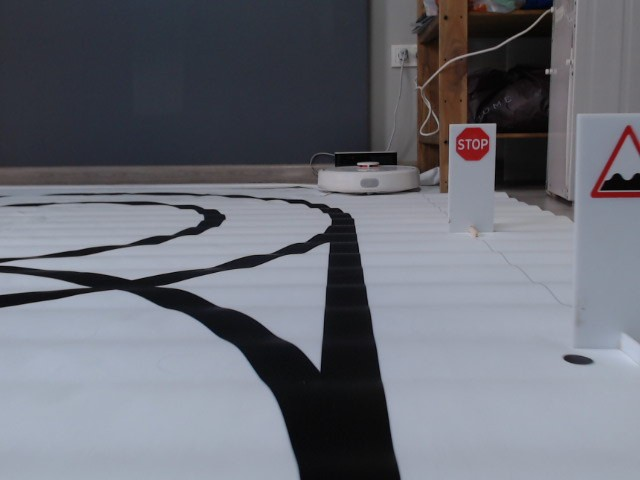Stop: (454, 127, 492, 162)
